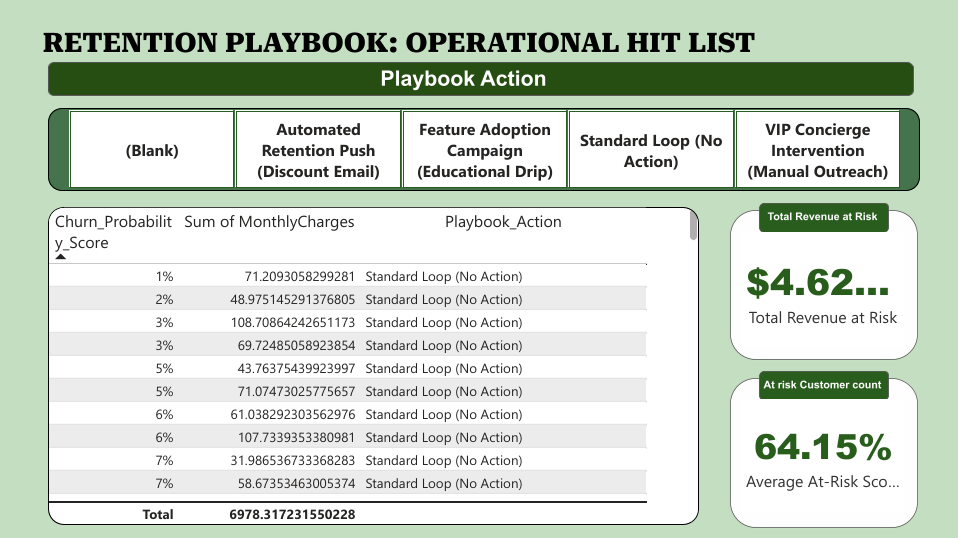

The page's visual inventory and layout, read from the dashboard file:
{"tool":"powerbi","page":{"name":"Page 2","canvas":[1280,720],"ordinal":1},"visuals":[{"type":"cardVisual","fields":{"Data":["active_customer_risk_scores.Total Revenue at Risk"]},"box":[900,321.1,164.2,115.2],"z":4},{"type":"cardVisual","fields":{"Data":["active_customer_risk_scores.Average At-Risk Score"]},"box":[900,488.2,164.2,112.3],"z":5},{"type":"tableEx","fields":{"Values":["active_customer_risk_scores.Churn_Probability_Score","Sum(active_customer_risk_scores.MonthlyCharges)","active_customer_risk_scores.Playbook_Action"]},"box":[207.4,295.2,650.9,318.2],"z":6},{"type":"actionButton","box":[0,0,100,40],"z":7},{"type":"slicer","fields":{"Values":["active_customer_risk_scores.Playbook_Action"]},"box":[207.4,195.8,871.2,83.5],"z":8}]}

Visuals, with their boxes in screenshot pixels (x1, y1, x2, y2), scaled from the page's 1280x720 canvas onto the 958x538 screenshot:
cardVisual - active_customer_risk_scores.Total Revenue at Risk: (left=674, top=240, right=796, bottom=326)
cardVisual - active_customer_risk_scores.Average At-Risk Score: (left=674, top=365, right=796, bottom=449)
tableEx - active_customer_risk_scores.Churn_Probability_Score x Sum(active_customer_risk_scores.MonthlyCharges): (left=155, top=221, right=642, bottom=458)
actionButton: (left=0, top=0, right=75, bottom=30)
slicer - active_customer_risk_scores.Playbook_Action: (left=155, top=146, right=807, bottom=209)
